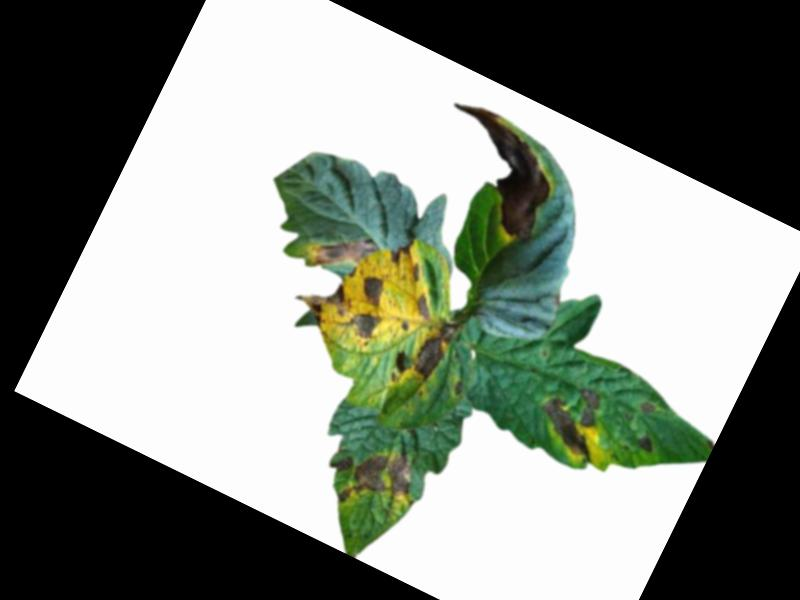Early_blight: (412, 93, 573, 243), (334, 433, 425, 528), (530, 373, 619, 463), (303, 214, 382, 288), (288, 268, 360, 337), (407, 311, 463, 384), (345, 304, 383, 344), (357, 271, 390, 306), (387, 238, 416, 269), (409, 290, 438, 320), (328, 449, 355, 477), (633, 428, 659, 454), (407, 259, 426, 281), (637, 397, 657, 414), (450, 377, 466, 396), (398, 319, 412, 334)
